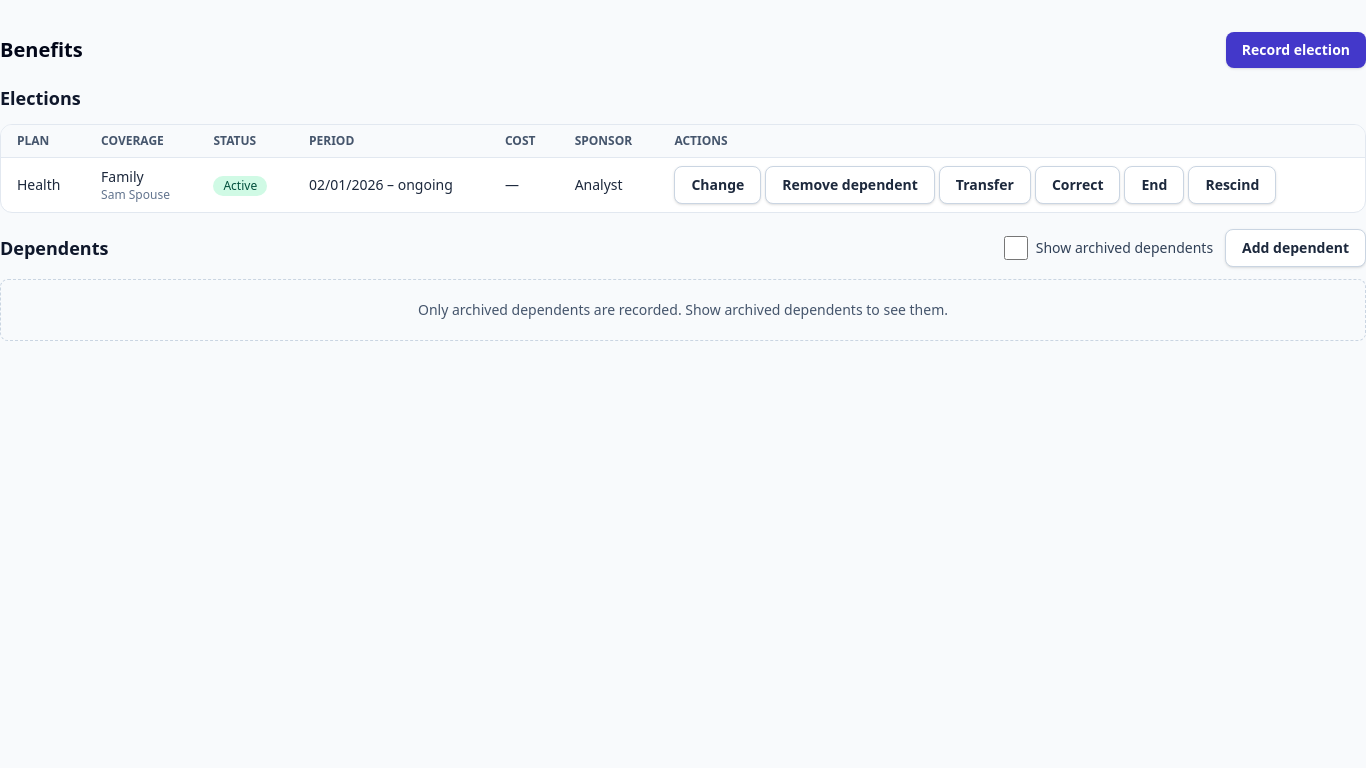
Test: EmployeeBenefitsSection (Batch 7C) › lets a covered dependent who is archived be removed (loss of eligibility)
Click the button with aria-label "Change coverage for Health" at (718, 185), box left=674, top=166, right=761, bottom=204
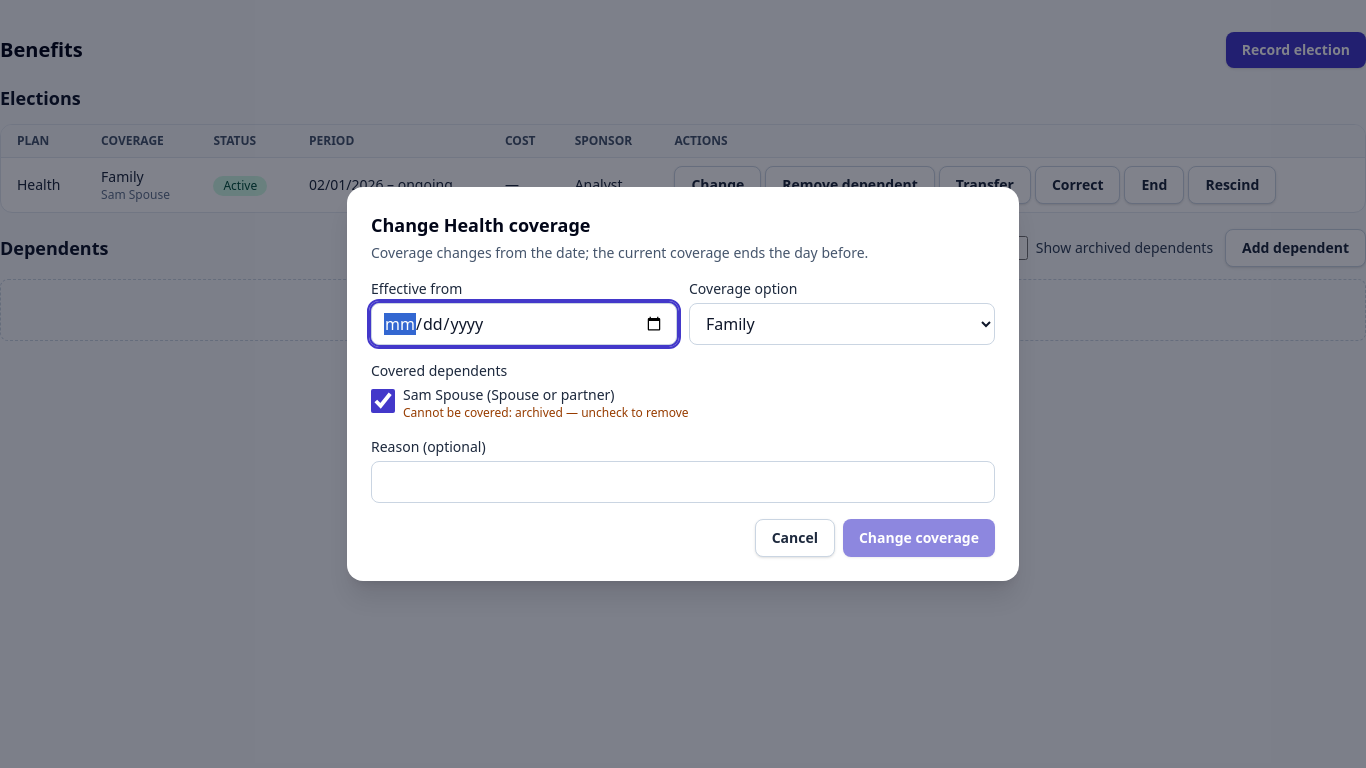
expect the checkbox labelled "Sam Spouse" is checked: met
expect the checkbox labelled "Sam Spouse" is enabled: met
expect the text "Cannot be covered: archived — uncheck to remove" is shown: met, box left=403, top=405, right=689, bottom=421
Click the checkbox labelled "Sam Spouse" at (383, 401), box left=371, top=389, right=395, bottom=413
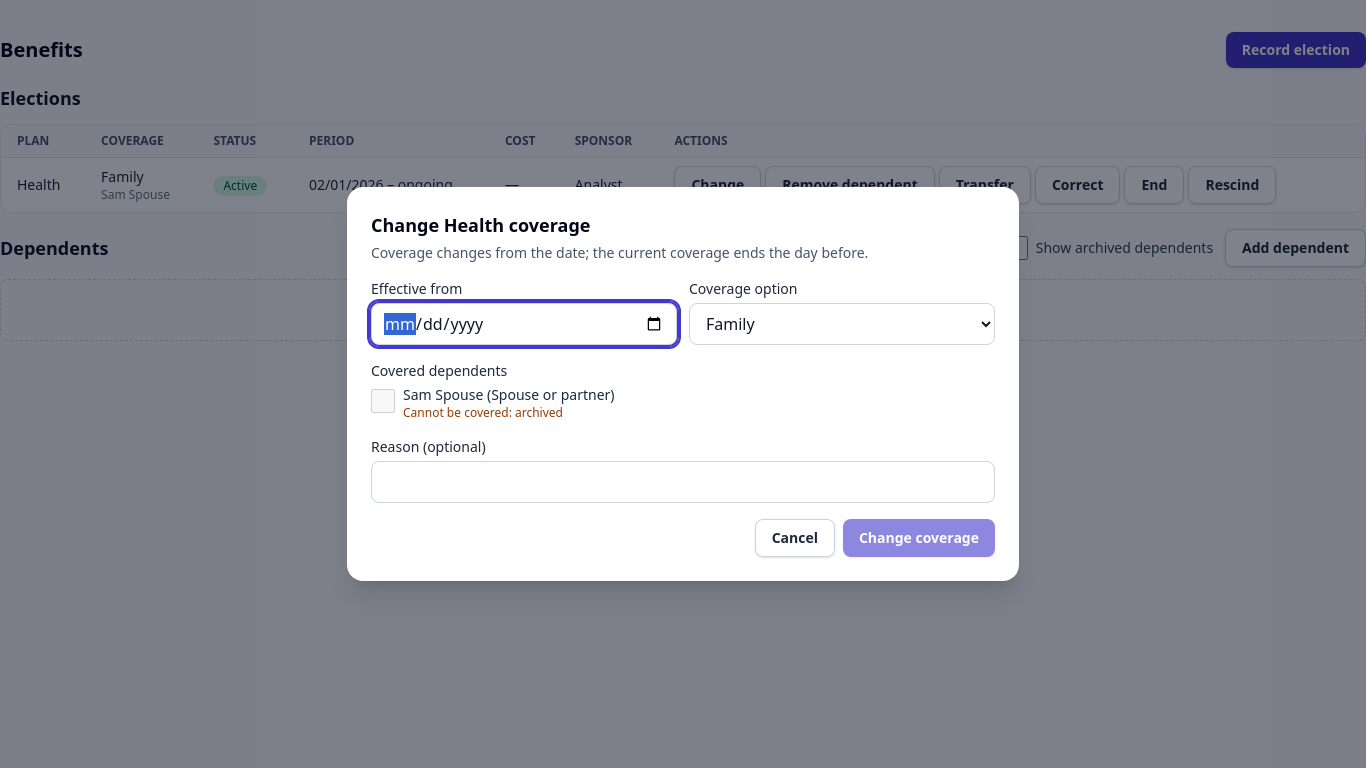
Type "2026-06-01" into the date field labelled "Effective from" at (524, 324), box left=371, top=303, right=677, bottom=345
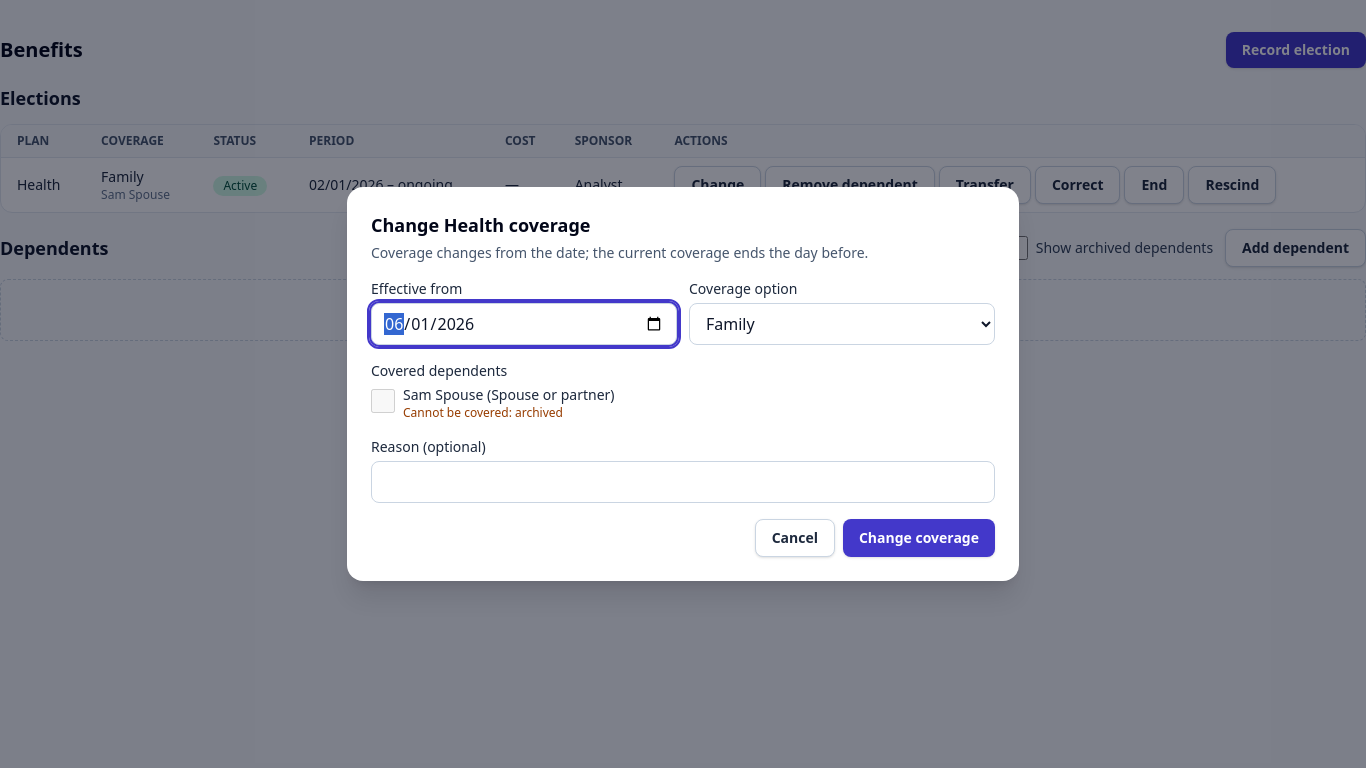
Select "Single" in the dropdown labelled "Coverage option" at (842, 324), box left=689, top=303, right=995, bottom=345
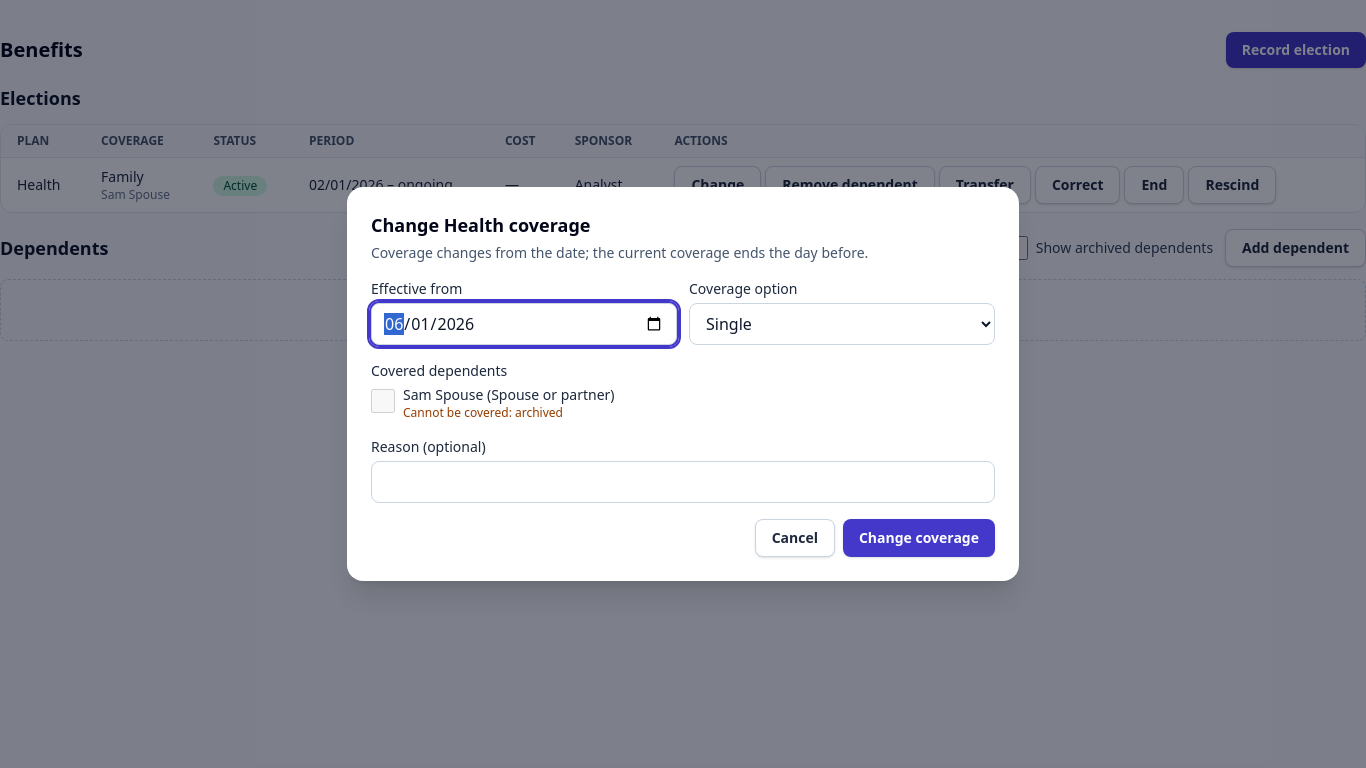
Click the button "Change coverage" at (919, 538), box left=843, top=519, right=995, bottom=557
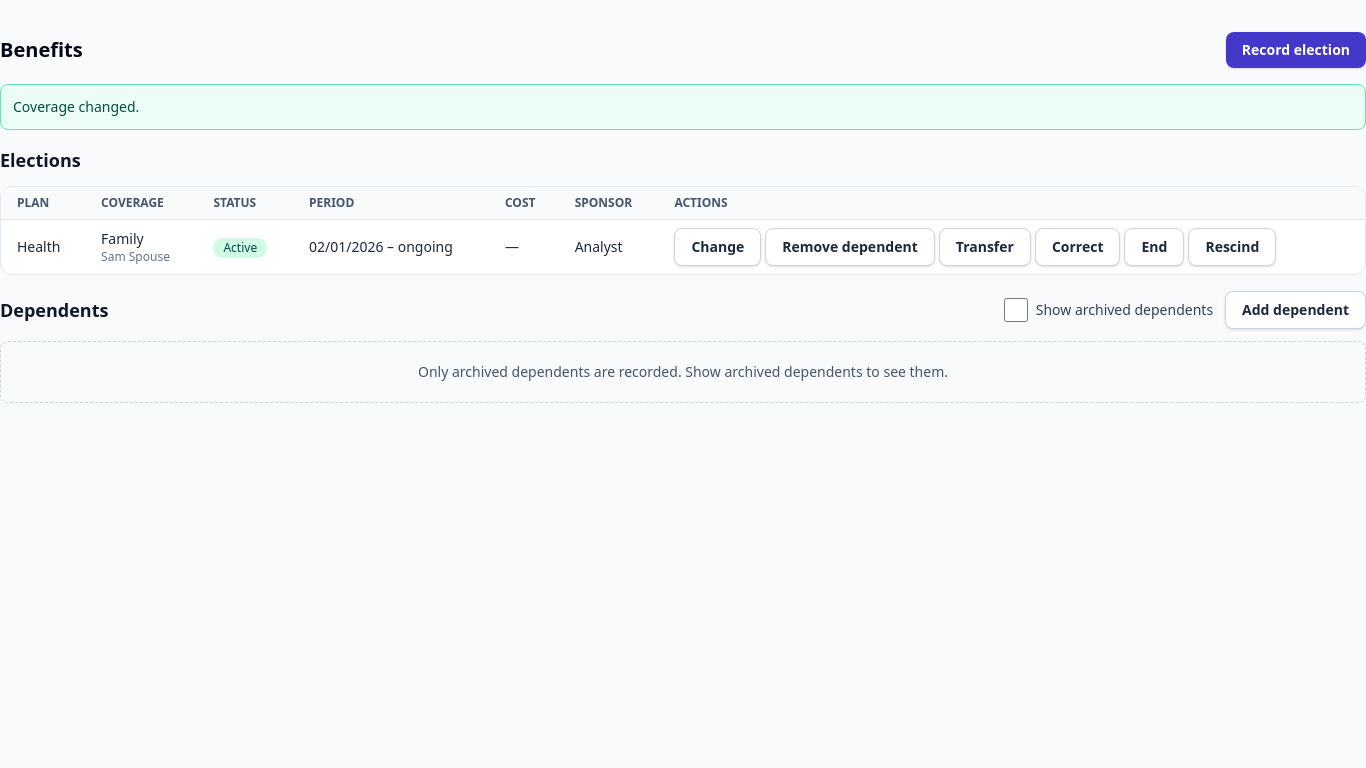
expect the text "Coverage changed." is shown: met, box left=0, top=84, right=1365, bottom=130
